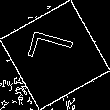L_E: (27, 33, 83, 77)
